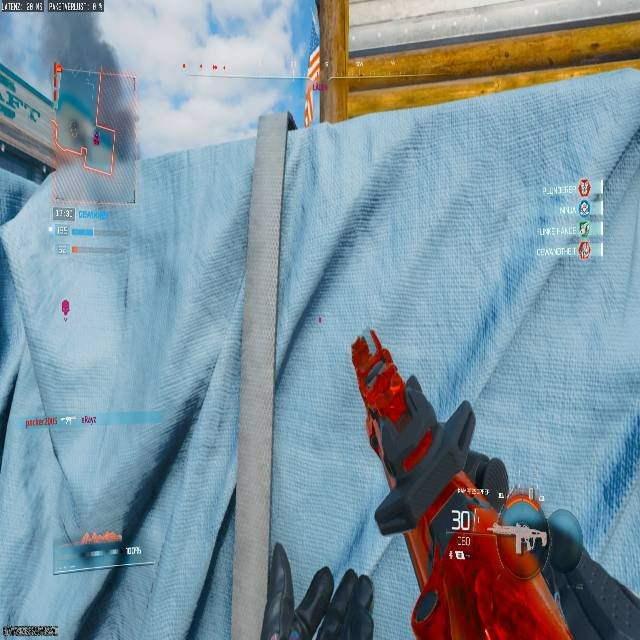head: (492, 501, 550, 574)
